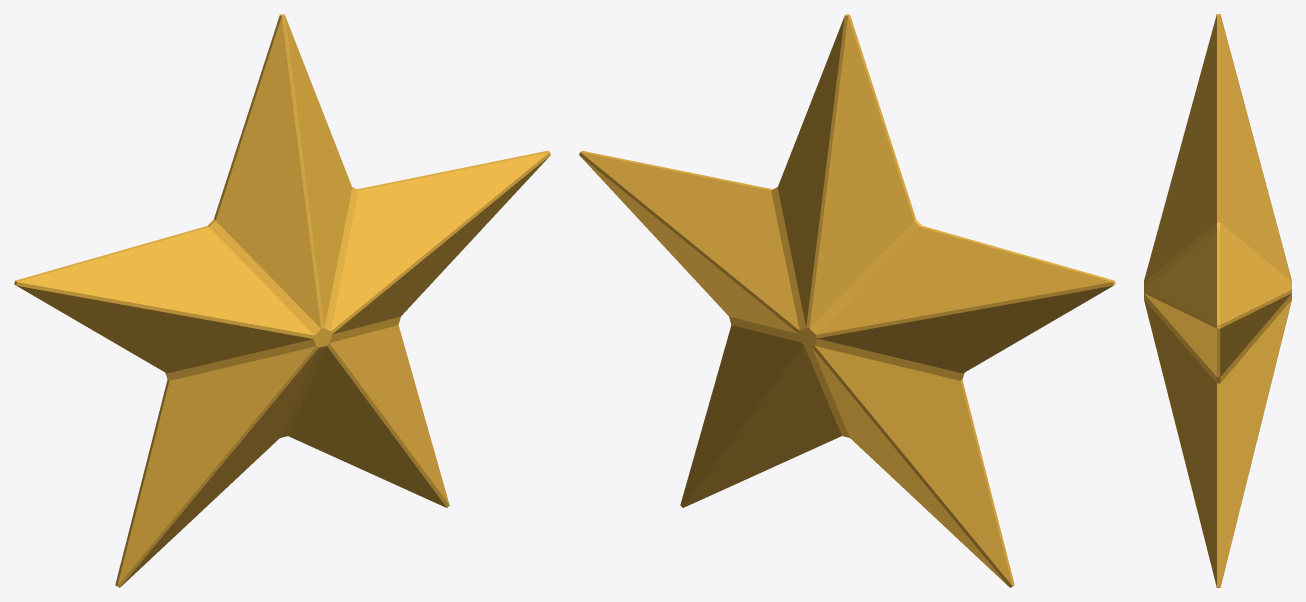
The model's file is Star.fbx.
3 renders of one model, left to right at view 1: azimuth 30°, elevation 25°; view 2: azimuth 150°, elevation 25°; view 3: azimuth 270°, elevation 25°, orthographic. The views are drawn at different scales.
Parts seen in each view (by area): view 1: star; view 2: star; view 3: star.
Part boxes in pixels (x1,y1,x2,y2): star: [14, 14, 550, 587]; star: [579, 14, 1115, 587]; star: [1144, 14, 1291, 587].
Bounding box in the file's own units: 182 × 173 × 46.46.
